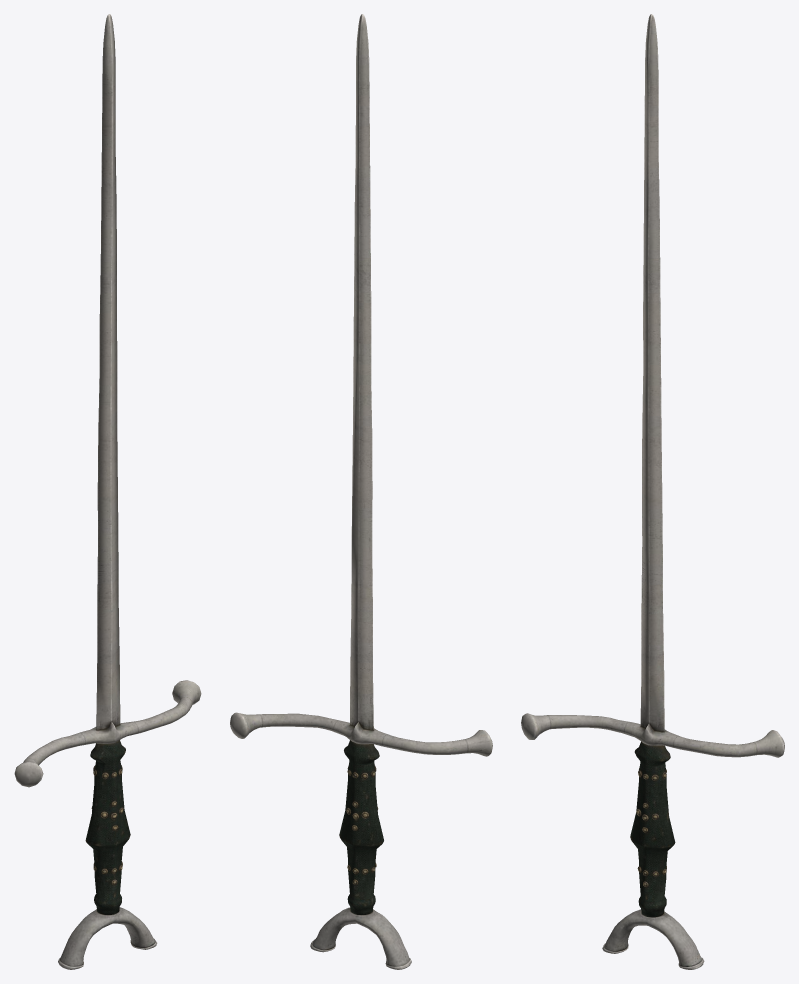
Rendered from antique_estoc.glb.
3 views of the same model, side by side, from view 1: azimuth 30°, elevation 25°; view 2: azimuth 150°, elevation 25°; view 3: azimuth 330°, elevation 25° (orthographic).
Visible parts, largest first — view 1: antique_estoc; view 2: antique_estoc; view 3: antique_estoc.
Part boxes in pixels (x1,y1,x2,y2): antique_estoc: [14, 14, 201, 969]; antique_estoc: [230, 14, 492, 969]; antique_estoc: [521, 14, 784, 969].
Bounding box in the file's own units: 0.3715 × 1.49 × 0.1491.
1 material, 1 textured.
